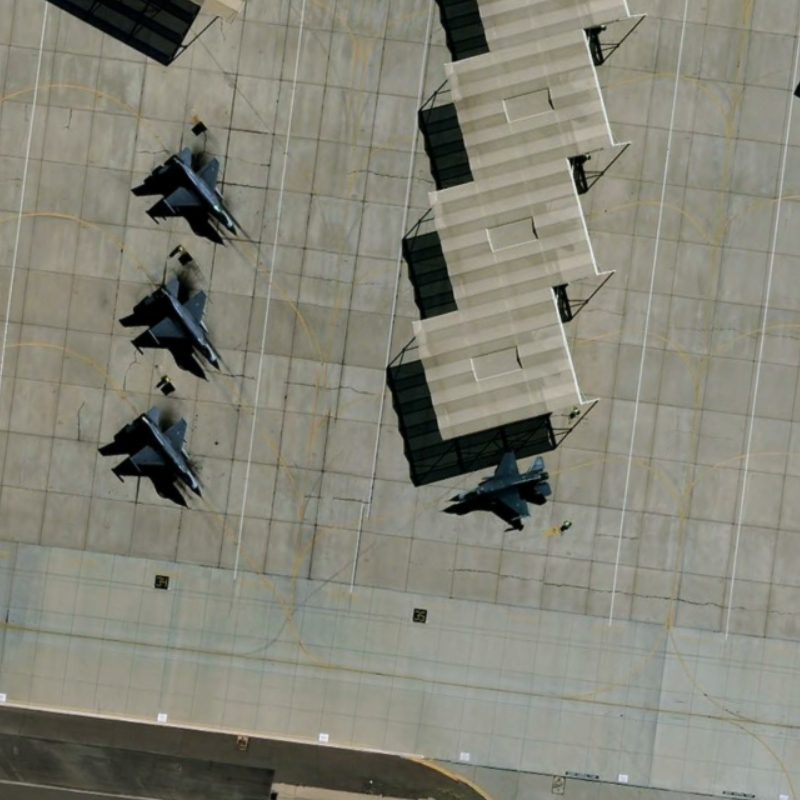A5: (105, 394, 210, 510), (131, 264, 231, 376), (437, 444, 561, 533), (143, 144, 250, 241)
